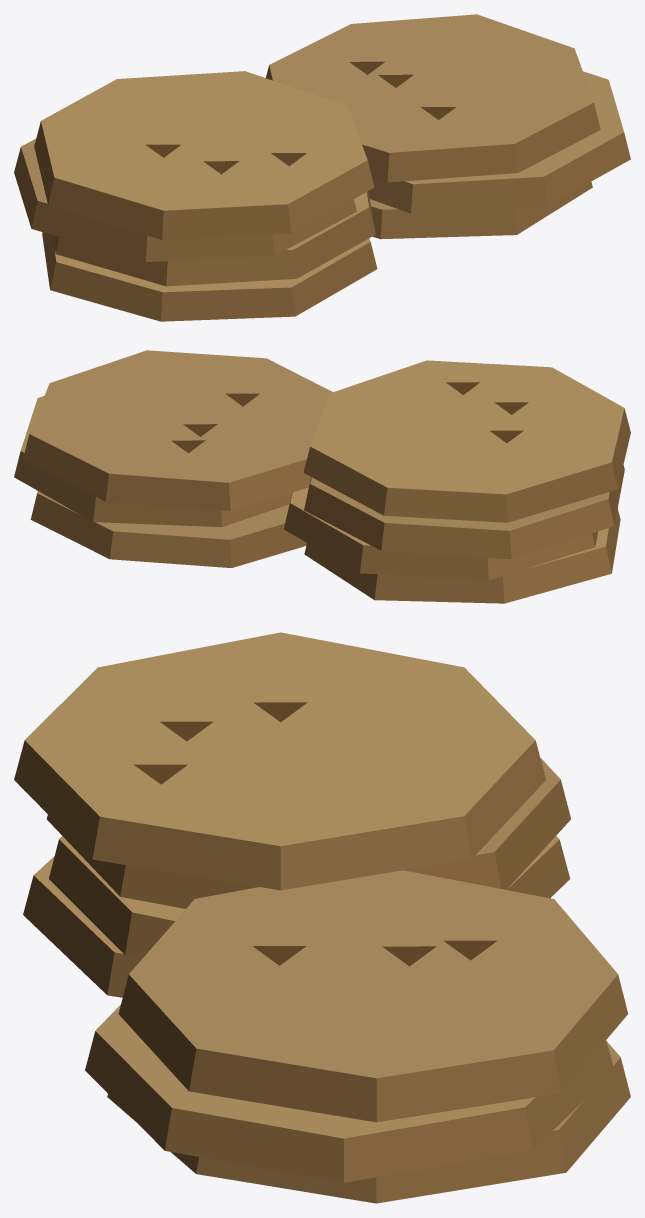
Rendered from storage_barley_pita.glb.
3 renders of one model, top to bottom at view 1: azimuth 30°, elevation 25°; view 2: azimuth 150°, elevation 25°; view 3: azimuth 270°, elevation 25°, orthographic. The views are drawn at different scales.
Visible parts, largest first — view 1: storage_barley_pita; view 2: storage_barley_pita; view 3: storage_barley_pita.
Boxes of the visible parts, x1,y1,x2,y2 form: storage_barley_pita: [14, 14, 630, 321]; storage_barley_pita: [14, 350, 630, 603]; storage_barley_pita: [14, 632, 630, 1203].
Bounding box in the file's own units: 1.29 × 0.239 × 0.7741.
